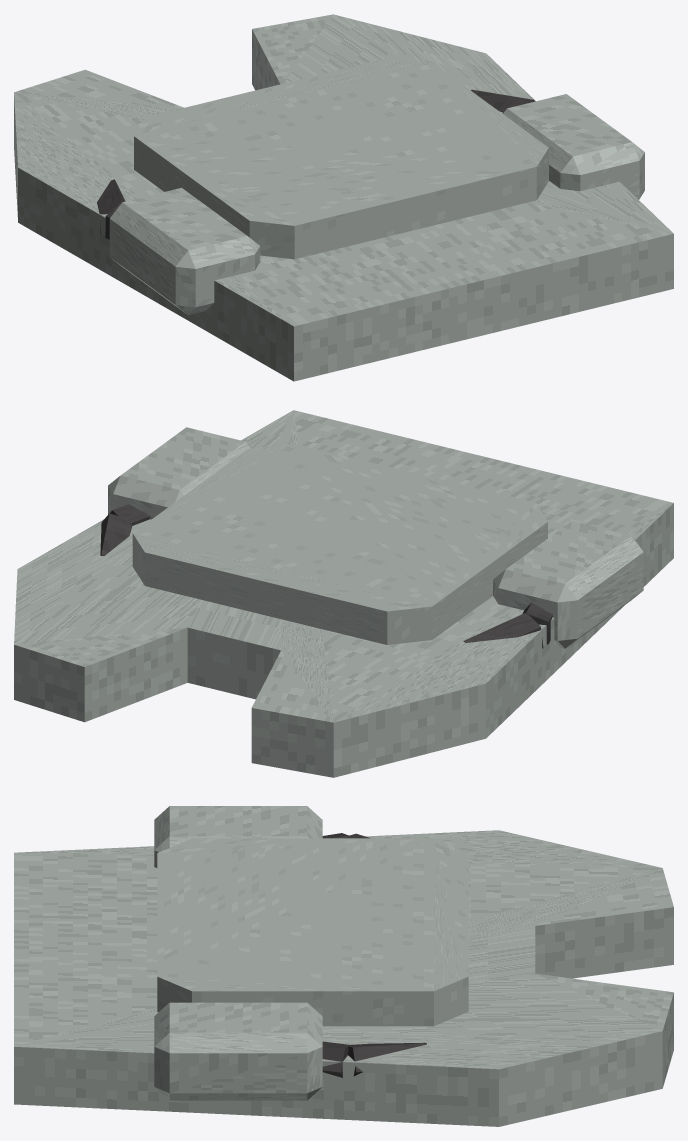
File: ballistic_vest_esapi.glb
The picture shows the model from 3 angles, top to bottom: view 1: azimuth 30°, elevation 25°; view 2: azimuth 150°, elevation 25°; view 3: azimuth 270°, elevation 25°; orthographic projection. The views are drawn at different scales.
Visible parts, largest first — view 1: block_vest body, block_front protection panel, block_side plate pouch (×2), block_adjustment strap 0 (×2); view 2: block_vest body, block_front protection panel, block_side plate pouch (×2), block_adjustment strap 0 (×2); view 3: block_vest body, block_front protection panel, block_side plate pouch (×2), block_adjustment strap 0, block_adjustment strap 1.
Boxes of the visible parts, box(x1,y1,x2,y2) form: block_vest body: box(14, 14, 673, 381); block_front protection panel: box(134, 58, 548, 259); block_side plate pouch (×2): box(109, 94, 644, 315); block_adjustment strap 0 (×2): box(97, 89, 535, 234); block_vest body: box(14, 410, 673, 777); block_front protection panel: box(132, 443, 547, 644); block_side plate pouch (×2): box(108, 427, 643, 648); block_adjustment strap 0 (×2): box(100, 513, 543, 648); block_vest body: box(14, 830, 673, 1126); block_front protection panel: box(157, 838, 468, 1026); block_side plate pouch (×2): box(154, 806, 322, 1100); block_adjustment strap 0: box(348, 1042, 426, 1076); block_adjustment strap 1: box(322, 1041, 351, 1077).
Size of the model in its own units: 0.4249 by 0.0766 by 0.4943.
Materials: 1 (1 with a texture image).
